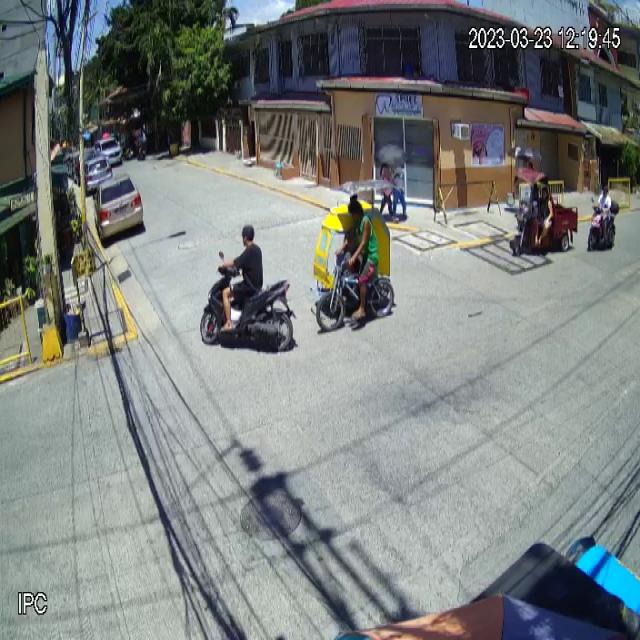Motorcycle: (200, 249, 297, 350)
